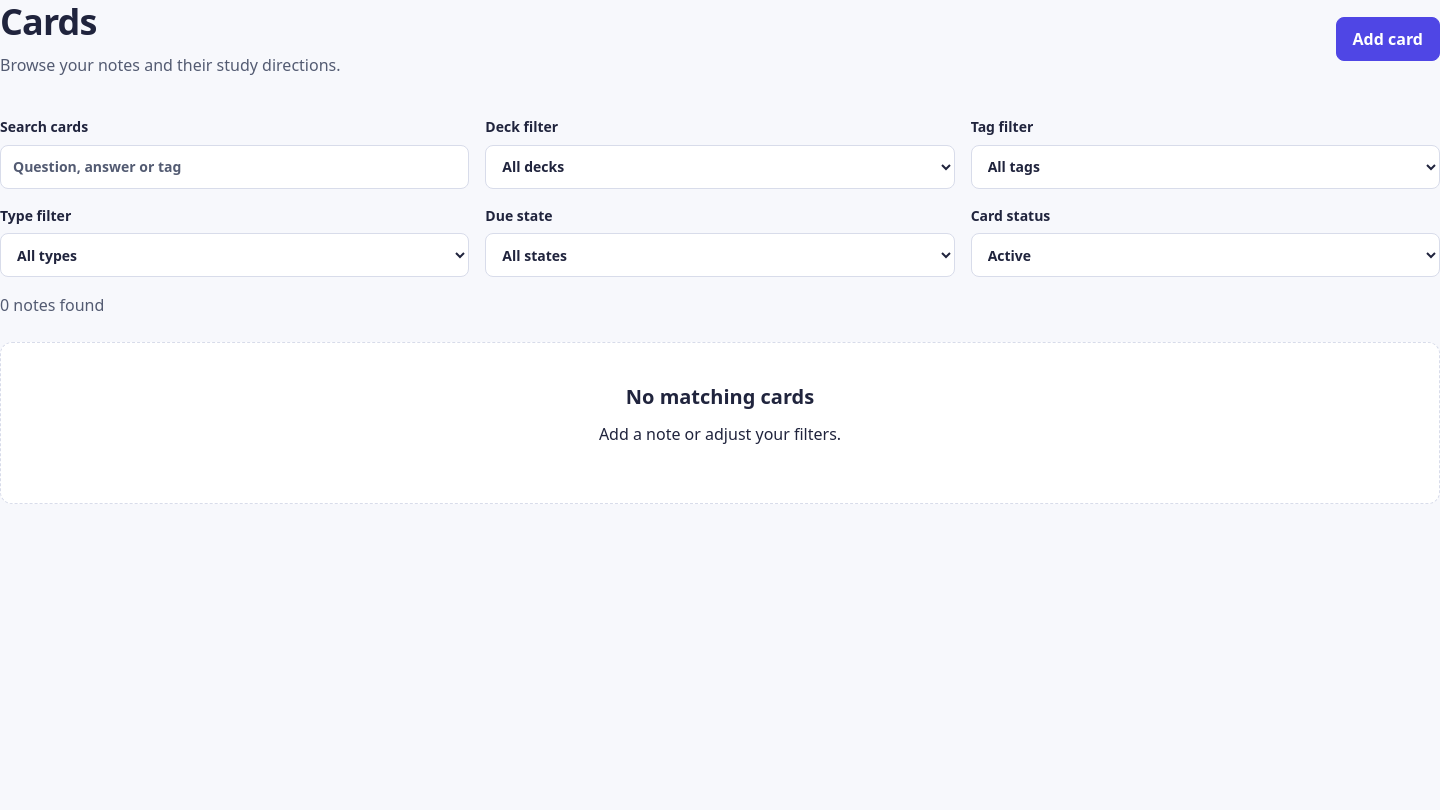
Test: deck and card workflows › creates a cloze note and its correct number of study units
Click the button "Add card" at (1388, 39), box [1336,17,1439,61]
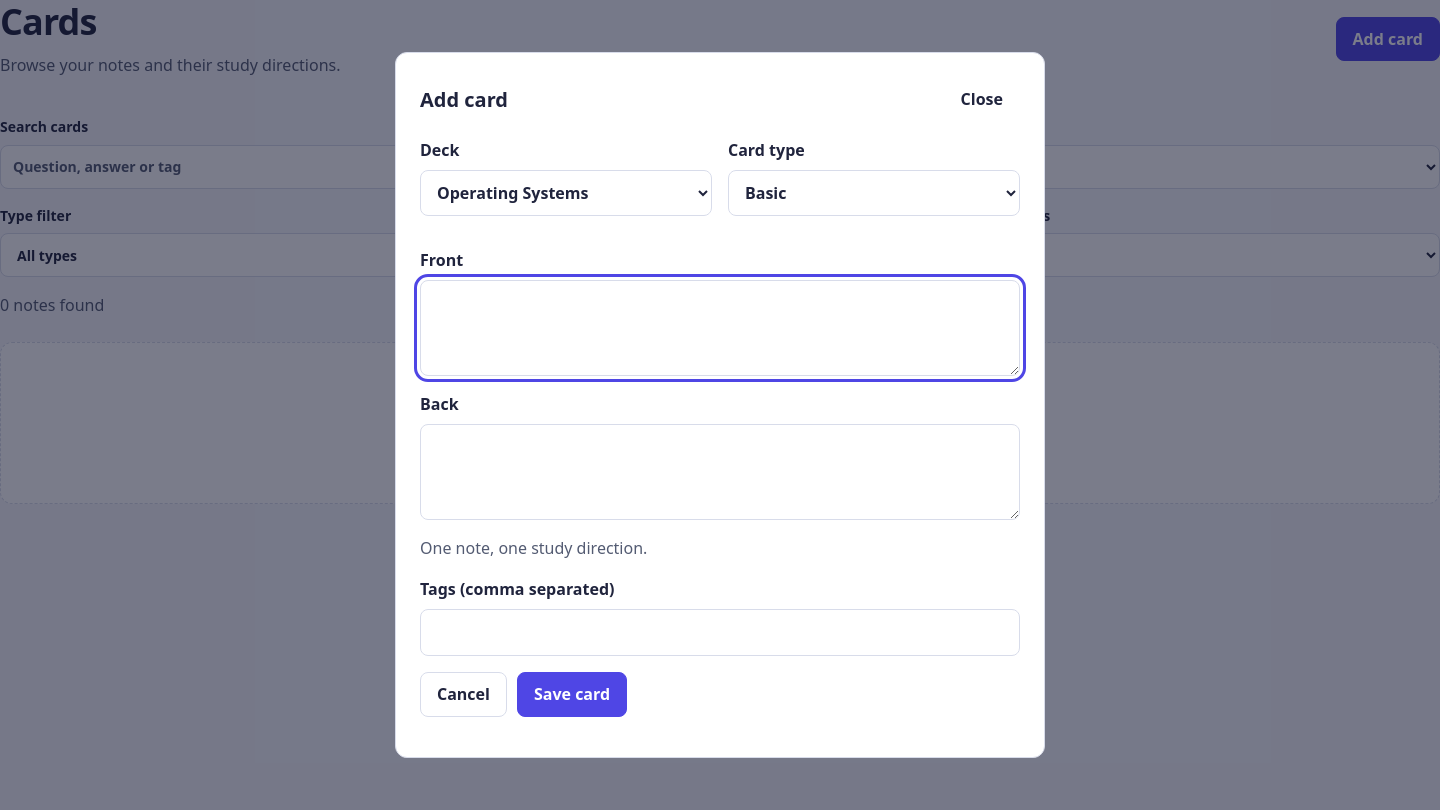
Select "Cloze" in the dropdown labelled "Card type" at (874, 193), box [728,170,1020,216]
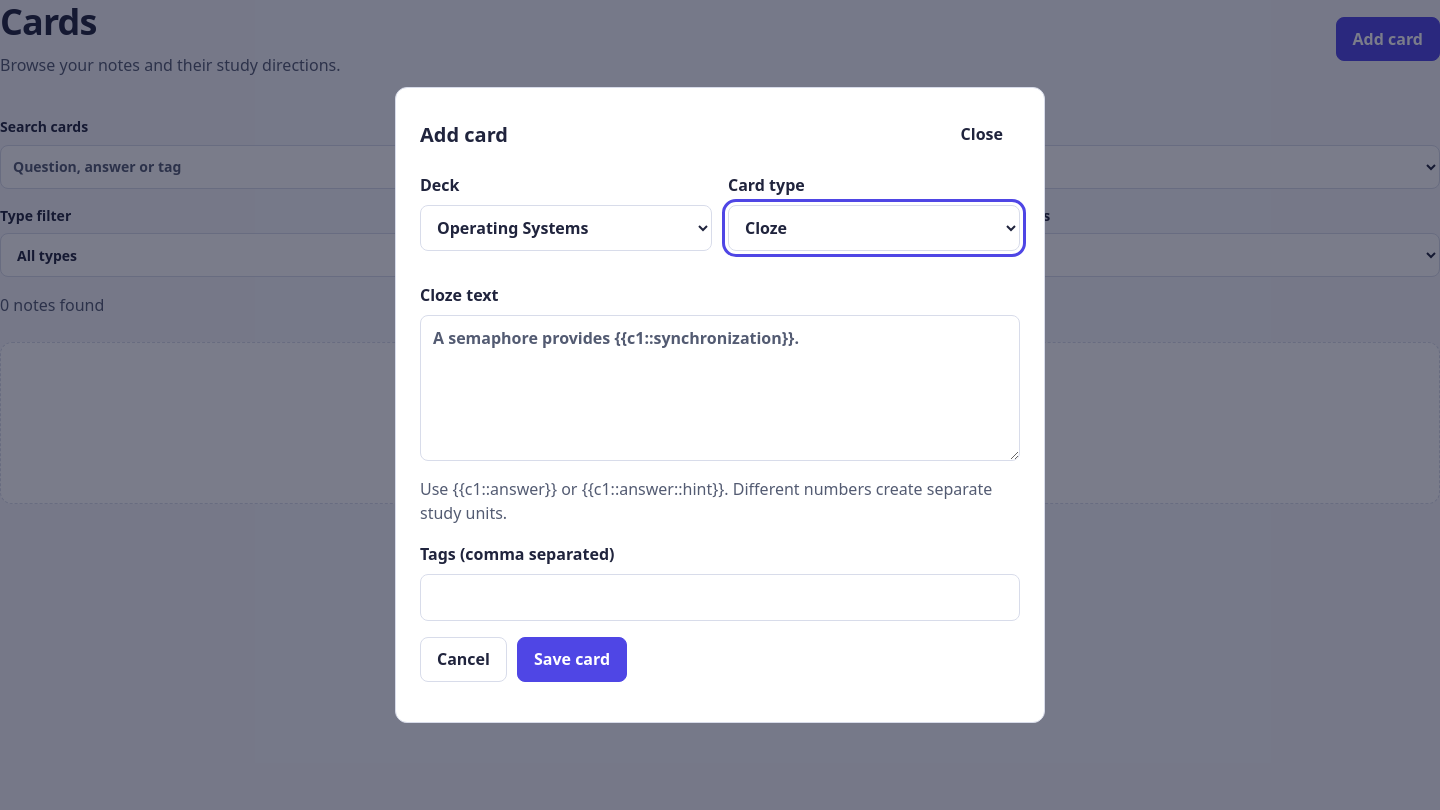
Click the text box labelled "Cloze text" at (720, 388), box [420,315,1020,461]
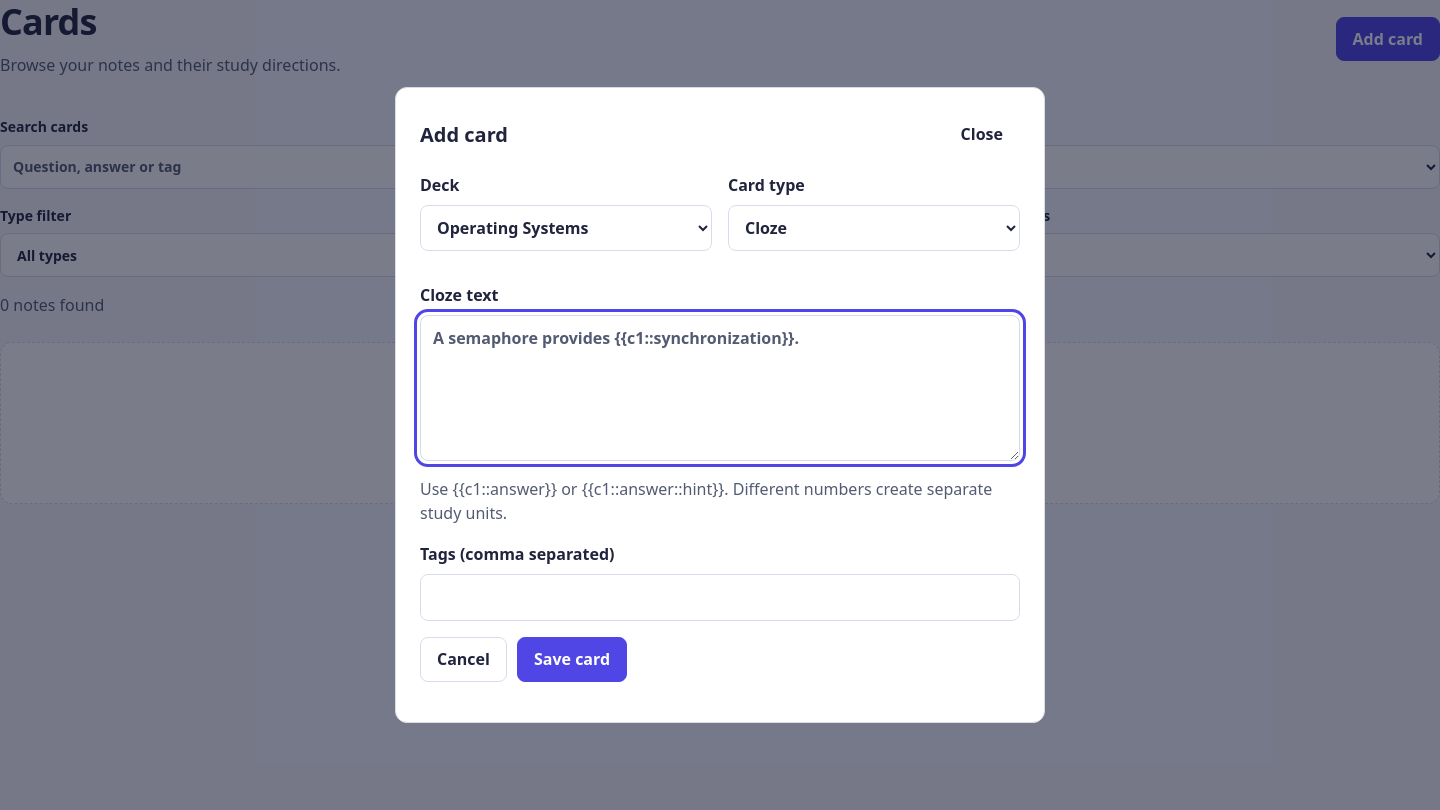
Type keys "A {{c1::semaphore}} supports {{c2::synchronization}}."
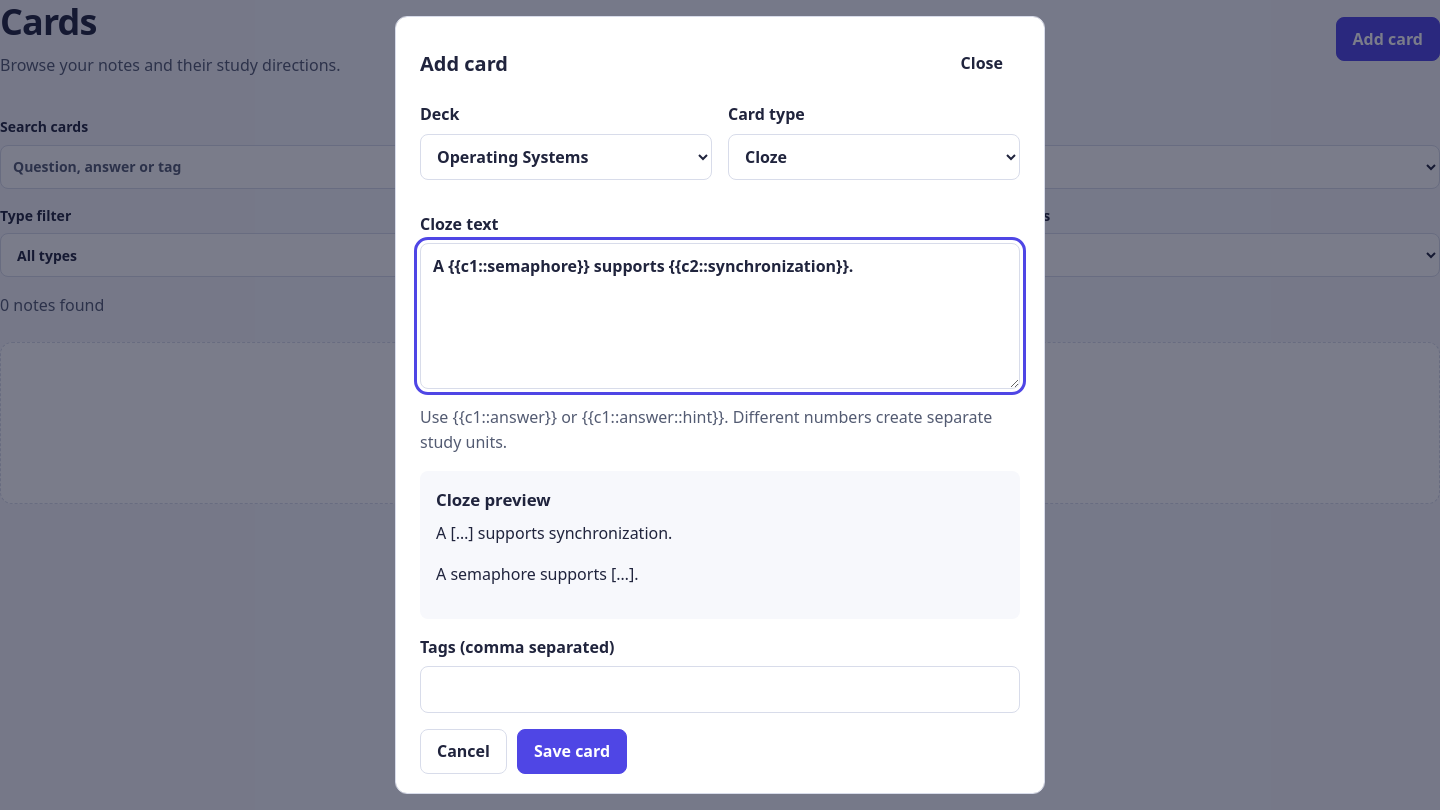
Result: the heading "Cloze preview" is shown at [436,488,551,511]
Type " OS , ipc, os" into the field labelled "Tags (comma separated)" at (720, 690), box [420,666,1020,713]
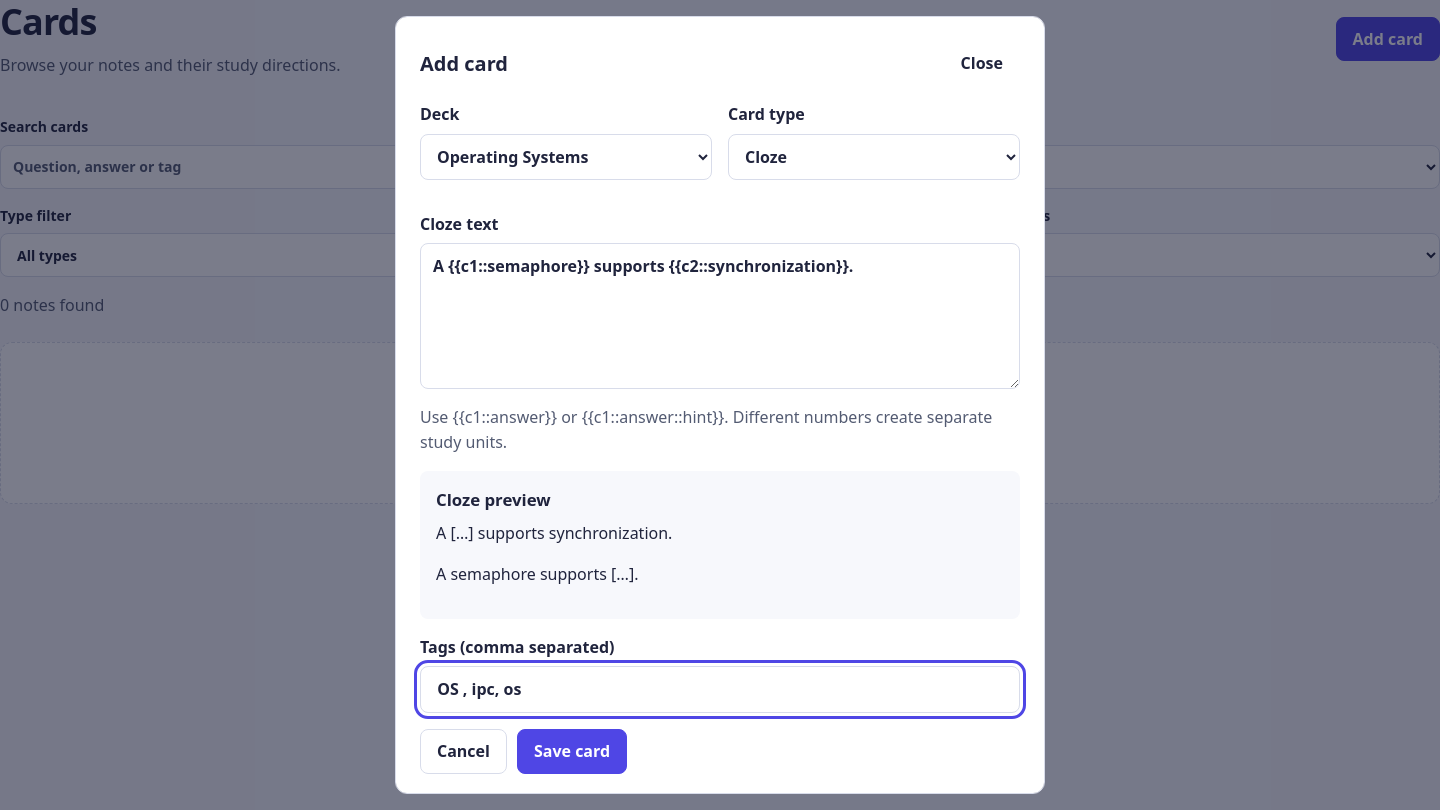
Click the button "Save card" at (572, 752), box [517,729,627,774]
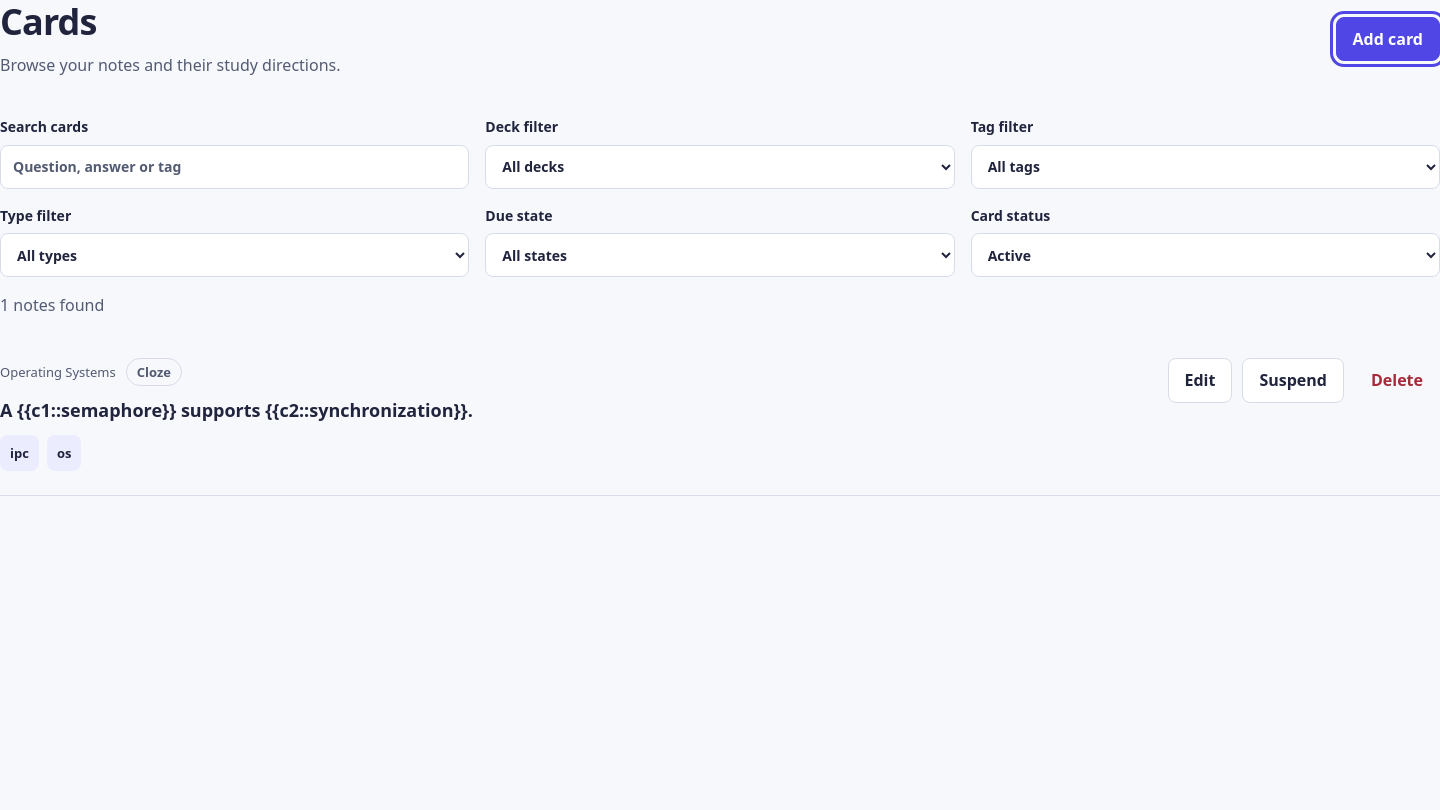
Result: the dialog is gone
Result: the text "1 notes found" is shown at [0,294,104,316]
